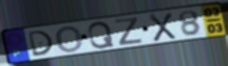8: (177, 9, 203, 37)
D: (26, 29, 55, 58)
O: (55, 25, 84, 53)
Q: (87, 20, 116, 50)
X: (148, 11, 178, 43)
Z: (114, 16, 144, 47)
